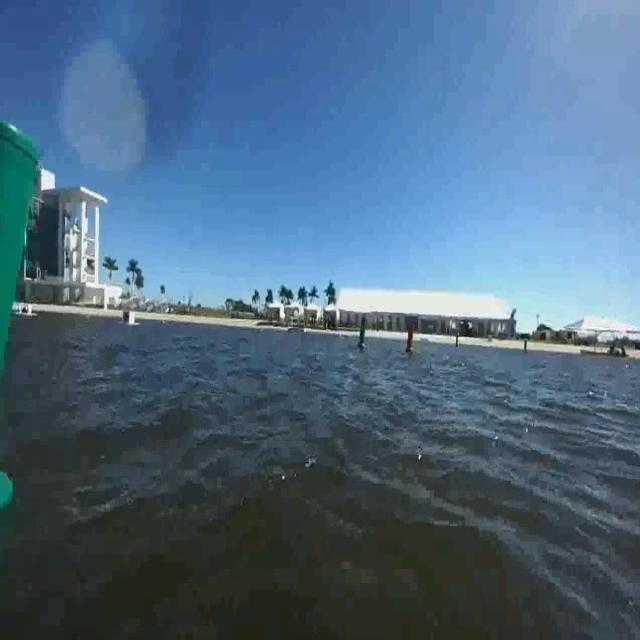green-column-buoy: (356, 314, 368, 349)
red-column-buoy: (407, 324, 417, 355)
